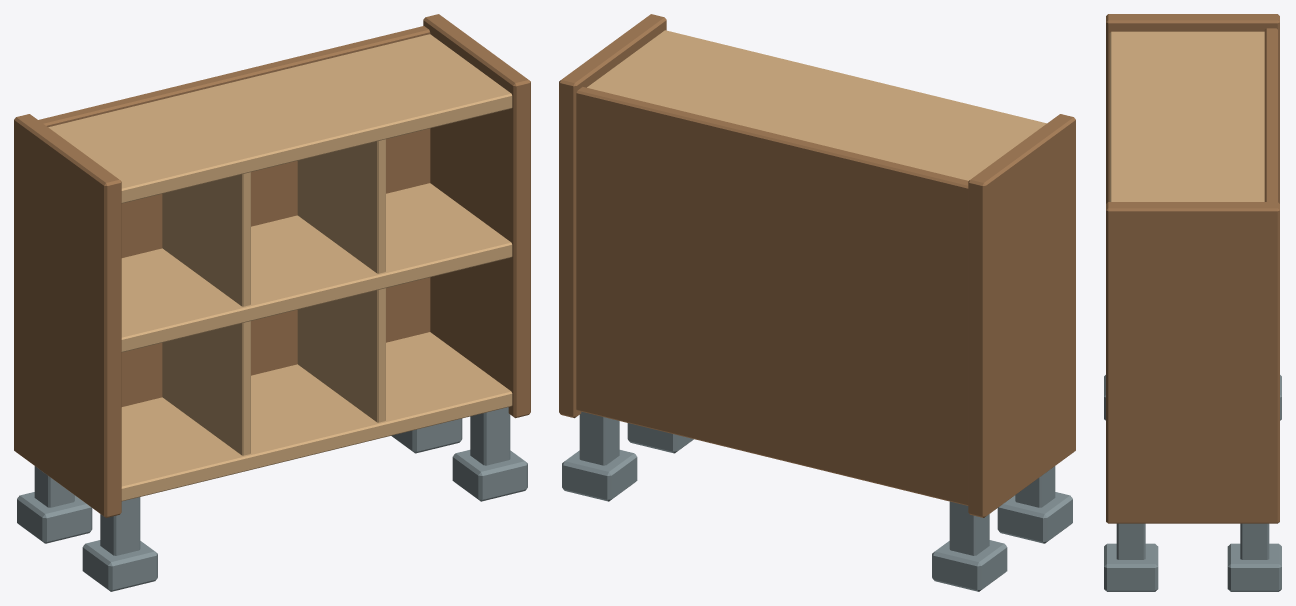
3 renders of one model, left to right at view 1: azimuth 30°, elevation 25°; view 2: azimuth 150°, elevation 25°; view 3: azimuth 270°, elevation 25°, orthographic. The views are drawn at different scales.
Visible parts, largest first — view 1: postal-sorting-cubbies-01; view 2: postal-sorting-cubbies-01; view 3: postal-sorting-cubbies-01.
Boxes of the visible parts, x1,y1,x2,y2 form: postal-sorting-cubbies-01: (14,14,530,591); postal-sorting-cubbies-01: (559,14,1075,591); postal-sorting-cubbies-01: (1104,14,1281,591).
Size of the model in its own units: 1.2 by 1.1 by 0.46.
